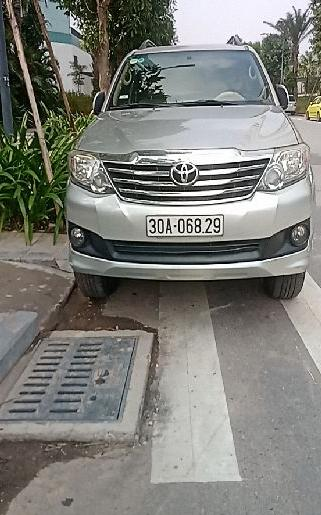Plate-iWeP: (146, 214, 223, 236)
